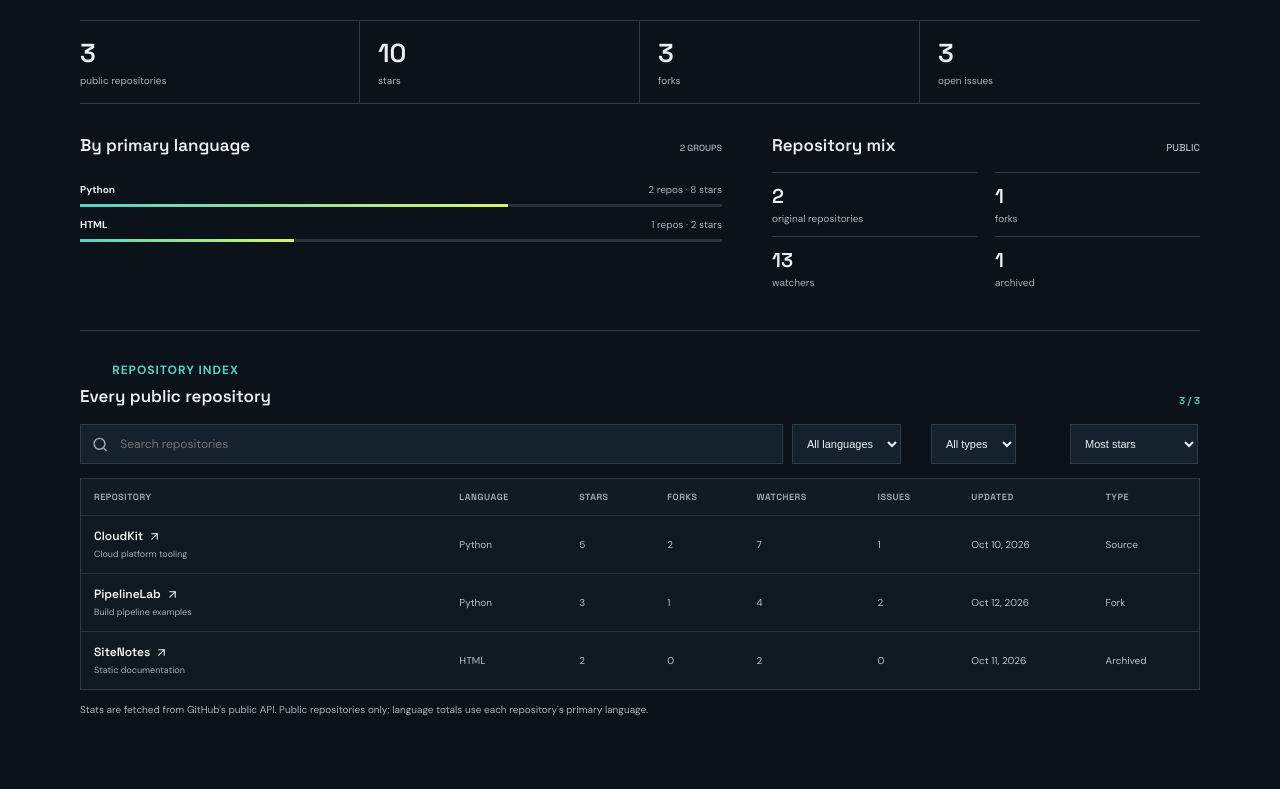
Test: portfolio website › shows grouped repository totals and filters per-repository stats
The image size is (1280, 789).
(page scrolled)
Expected: the heading "Every public repository" is shown, x1=80 y1=385 x2=271 y2=407
Expected: the text "public repositories" is shown, x1=80 y1=74 x2=167 y2=87
Select "Python" in the dropdown named "Filter by language": (846, 444) x1=792 y1=424 x2=901 y2=464
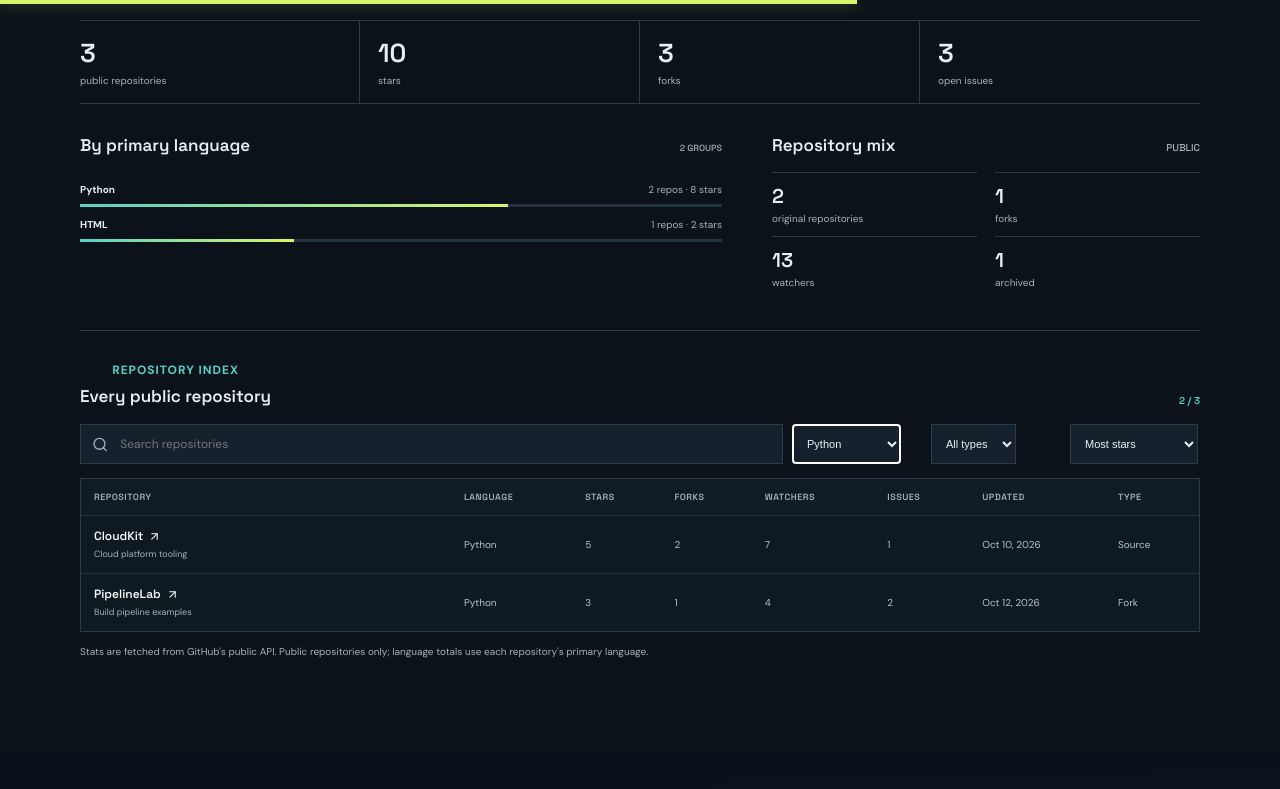
Result: the number of rows is 3 at x1=81 y1=479 x2=1199 y2=516; x1=81 y1=516 x2=1199 y2=574; x1=81 y1=574 x2=1199 y2=631
Result: the link "SiteNotes" is gone
Select "Forks" in the dropdown named "Filter by repository type": (974, 444) x1=931 y1=424 x2=1016 y2=464
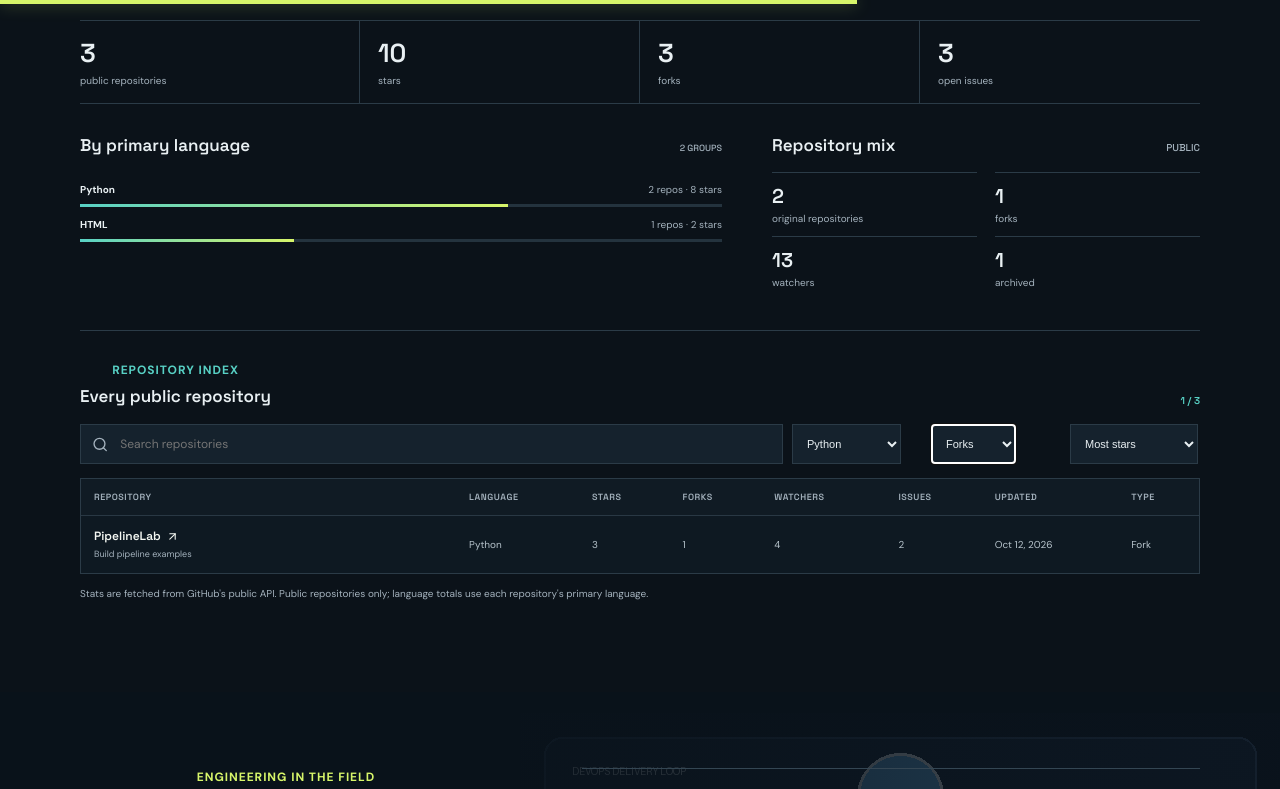
Expected: the link "PipelineLab" is shown, x1=94 y1=528 x2=179 y2=544
Result: the number of rows is 2 at x1=81 y1=479 x2=1199 y2=516; x1=81 y1=516 x2=1199 y2=573
Select "All languages" in the dropdown named "Filter by language": (846, 444) x1=792 y1=424 x2=901 y2=464
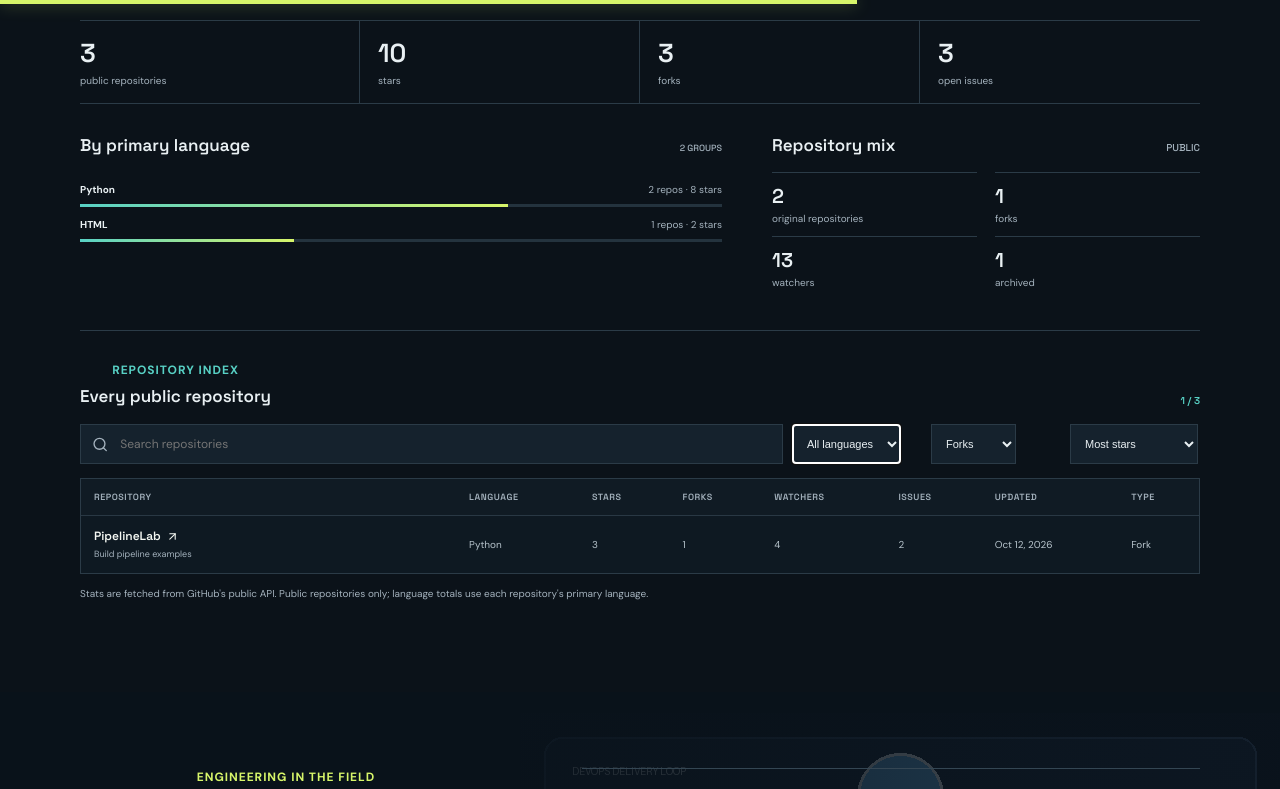
Select "Archived" in the dropdown named "Filter by repository type": (974, 444) x1=931 y1=424 x2=1016 y2=464
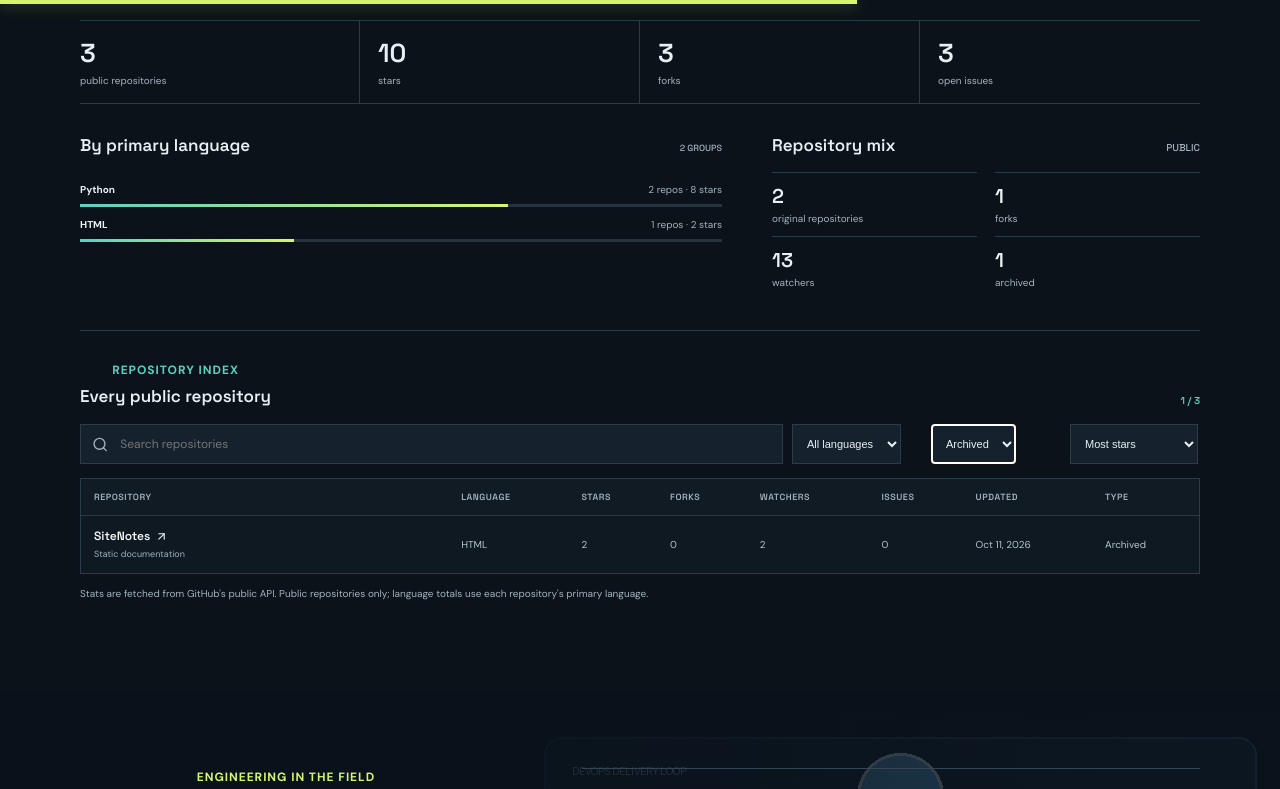
Result: the number of rows is 2 at x1=81 y1=479 x2=1199 y2=516; x1=81 y1=516 x2=1199 y2=573
Result: the link "SiteNotes" is shown at x1=94 y1=528 x2=168 y2=544
